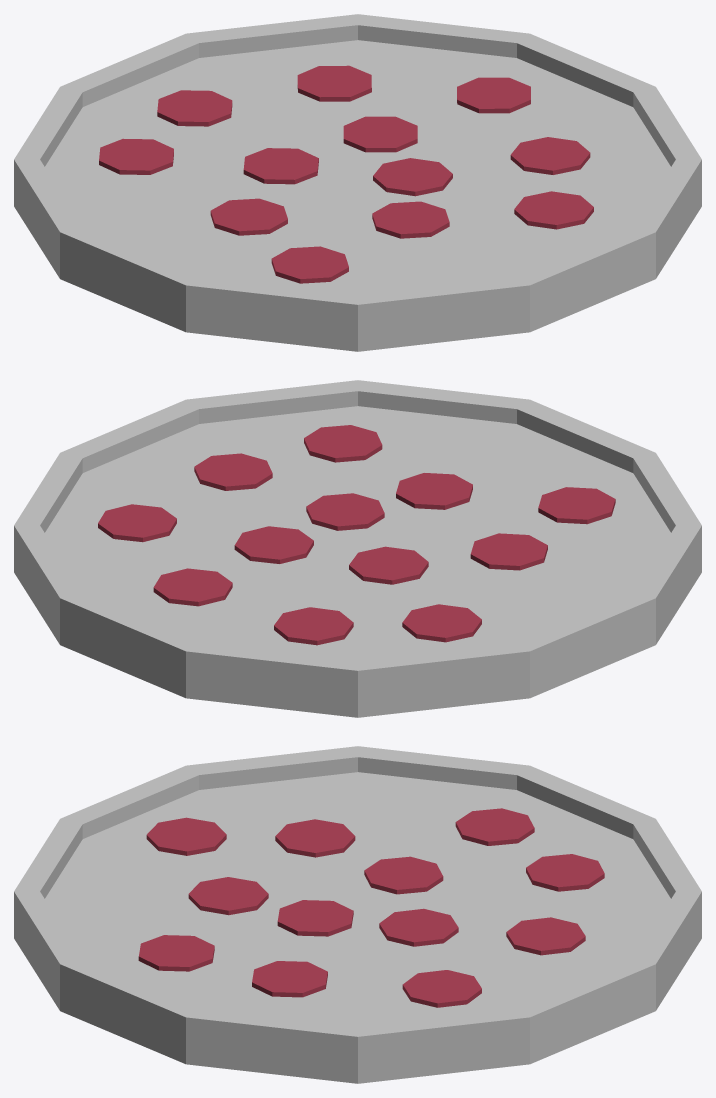
Rendered from CookedPepperoni.fbx.
3 renders of one model, top to bottom at view 1: azimuth 30°, elevation 25°; view 2: azimuth 150°, elevation 25°; view 3: azimuth 270°, elevation 25°, orthographic.
Visible parts, largest first — view 1: PizzaBase, PepperoniCut; view 2: PizzaBase, PepperoniCut; view 3: PizzaBase, PepperoniCut.
Boxes of the visible parts, left/top/right/bottom form: PizzaBase: left=14, top=14, right=701, bottom=351; PepperoniCut: left=99, top=65, right=593, bottom=283; PizzaBase: left=14, top=380, right=701, bottom=717; PepperoniCut: left=98, top=425, right=615, bottom=645; PizzaBase: left=14, top=746, right=701, bottom=1083; PepperoniCut: left=138, top=808, right=604, bottom=1007.
Size of the model in its own units: 200 by 15.07 by 200.
